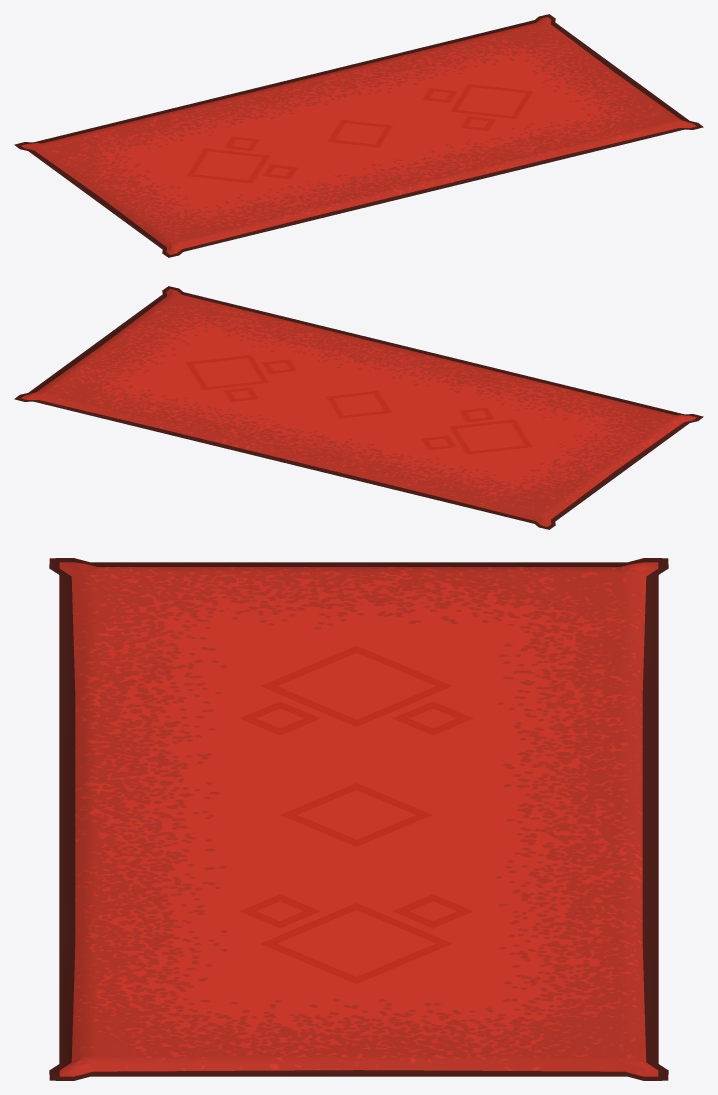
The model's file is Rug.fbx.
3 views of the same model, one above another, from view 1: azimuth 30°, elevation 25°; view 2: azimuth 150°, elevation 25°; view 3: azimuth 270°, elevation 25° (orthographic). The views are drawn at different scales.
Parts seen in each view (by area): view 1: Carpet; view 2: Carpet; view 3: Carpet.
Part boxes in pixels (x1,y1,x2,y2): Carpet: (14,14,703,257); Carpet: (14,286,703,529); Carpet: (49,558,668,1080).
Size of the model in its own units: 7041 by 46.49 by 3525.
1 material, 1 textured.
